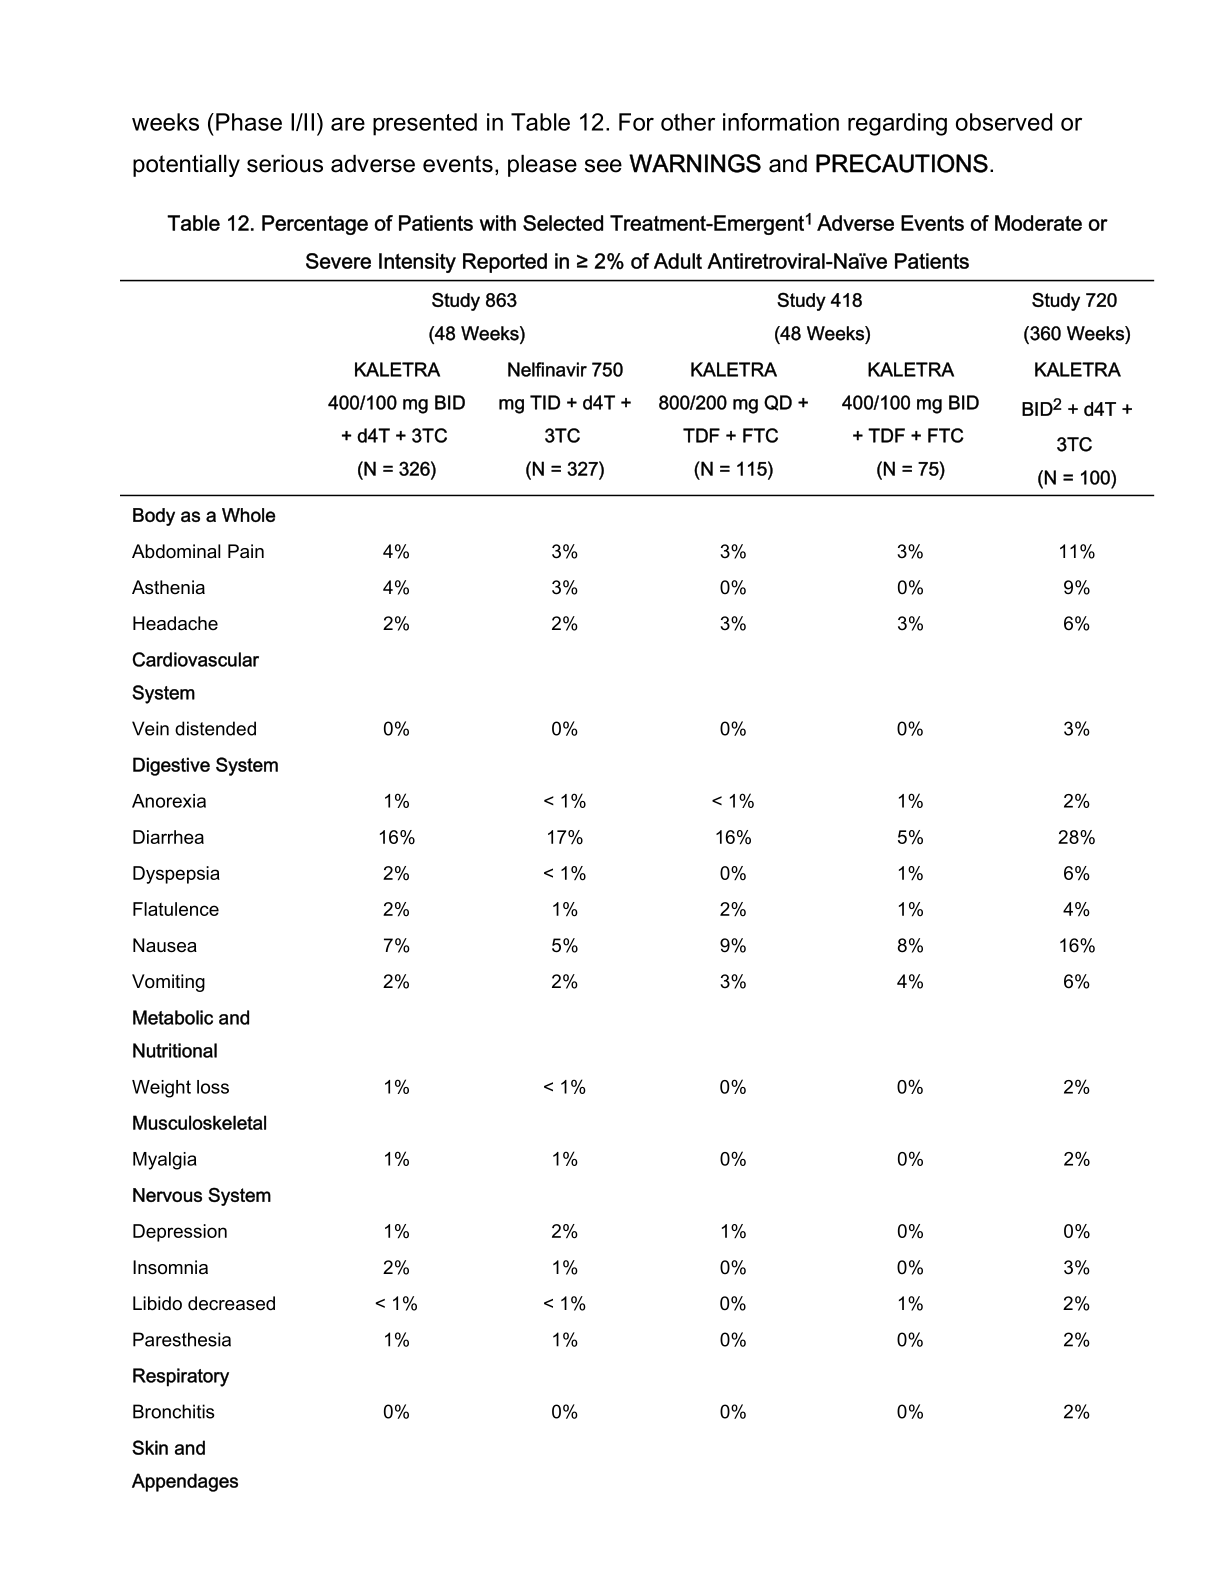partial_lined_merged_cells: (120, 276, 1156, 1506)
